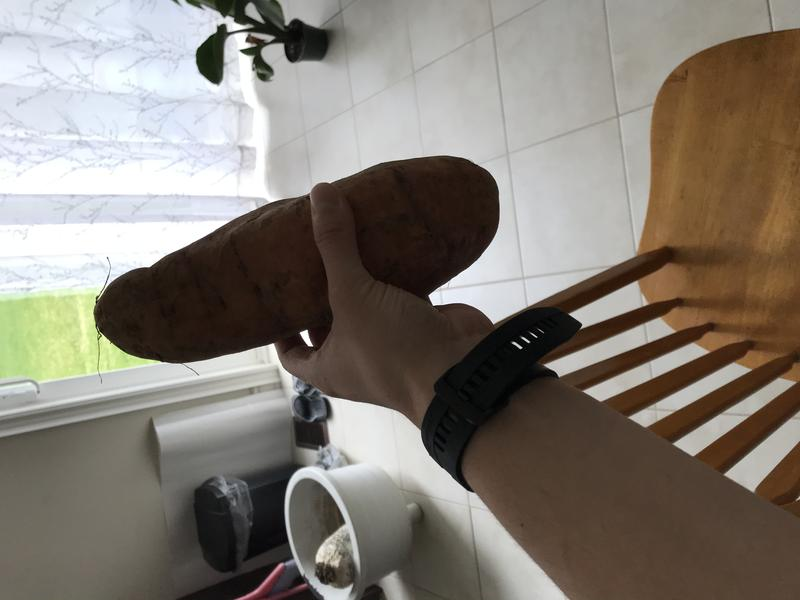sweet_potato: (83, 148, 516, 374)
